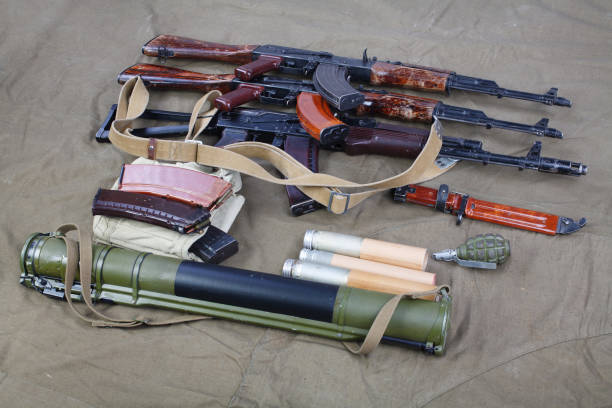e1: (438, 232, 514, 276)
